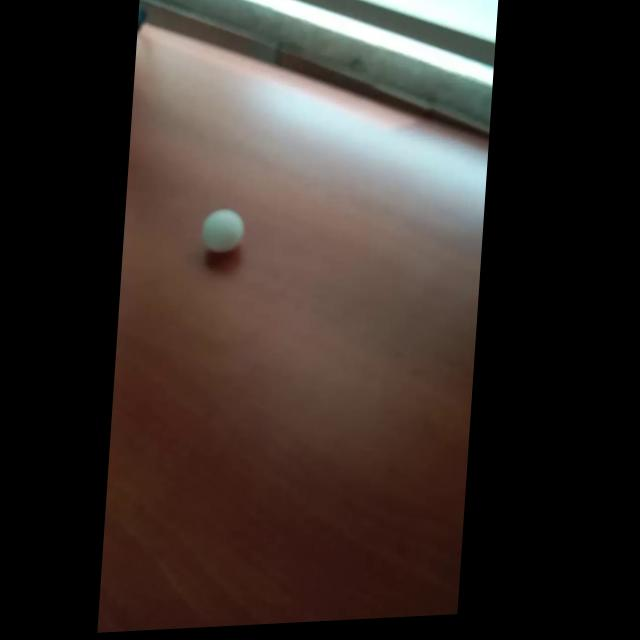white ball: (200, 208, 245, 254)
